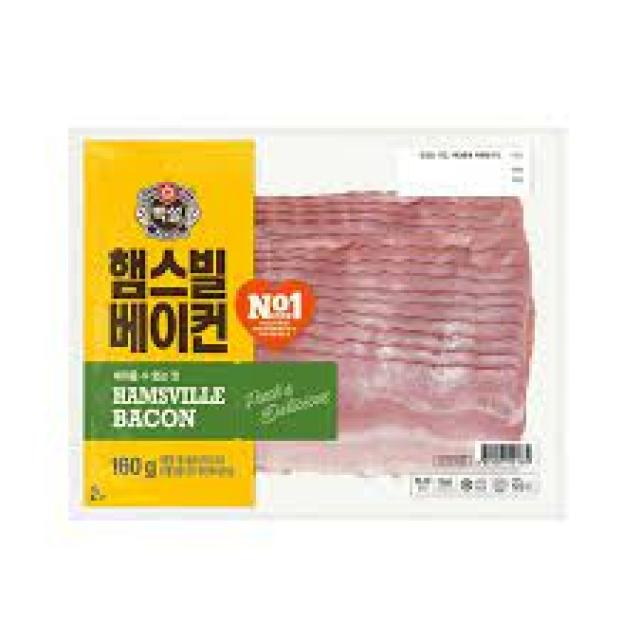bacon: (257, 200, 522, 435)
